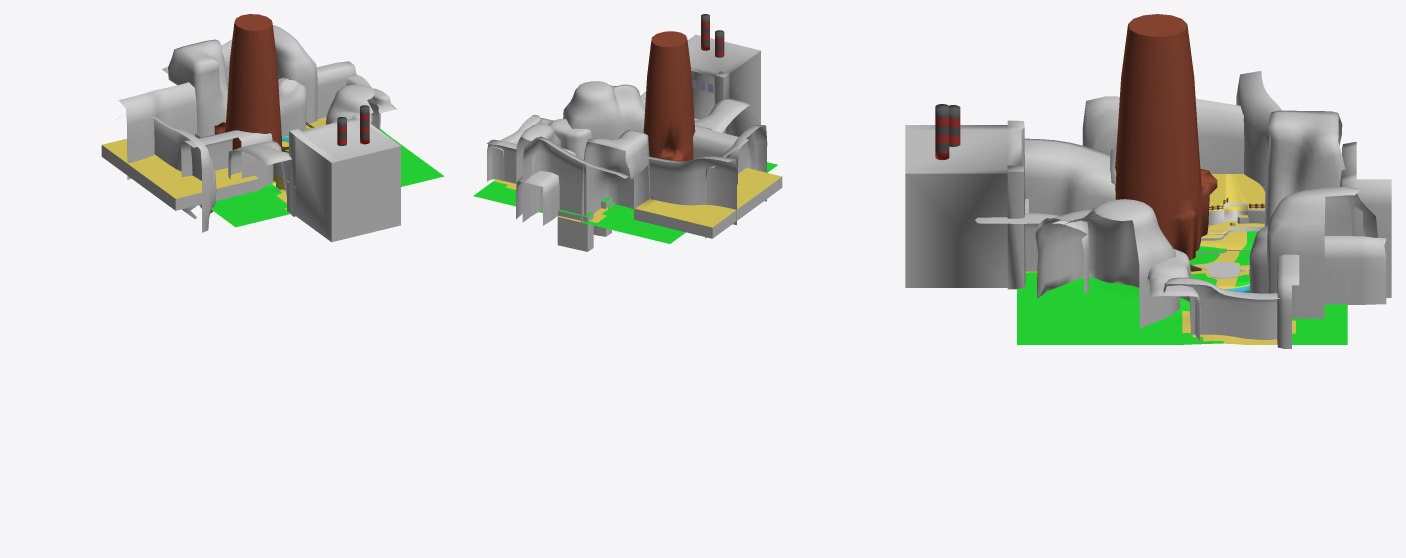
The model's file is MapTest.fbx.
3 renders of one model, left to right at view 1: azimuth 30°, elevation 25°; view 2: azimuth 150°, elevation 25°; view 3: azimuth 270°, elevation 25°, orthographic. The views are drawn at different scales.
Visible parts, largest first — view 1: Cube__19_, Cylinder, Cube__16_, Cube__23_.010, Cube__23_.003, Plane.001, Cube__23_.011, Cube__23_.001, Cube__23_.004, Cube__23_.007, Cube__23_.002, Cube__23_.005 (+1 smaller); view 2: Cylinder, Cube__19_, Cube__23_.003, Cube__16_, Cube__23_.010, Cube__23_.002, Cube__23_.015, Plane.001, Cube__23_.011, Cube__57_.004, Cube__23_.009, Cube__23_.001 (+4 smaller); view 3: Cube__19_, Cylinder, Plane.001, Cube__23_.002, Cube__23_.004, Cube__23_.010, Cube__23_.007, Cube__23_.011, Cube__23_.009, Cube__23_.008, Cube__23_.003, Cube__23_.015 (+7 smaller).
Boxes of the visible parts, x1=… form: Cube__19_: x1=288, y1=113, x2=400, y2=242; Cylinder: x1=214, y1=14, x2=281, y2=180; Cube__16_: x1=101, y1=136, x2=258, y2=210; Cube__23_.010: x1=168, y1=39, x2=228, y2=137; Cube__23_.003: x1=118, y1=82, x2=197, y2=179; Plane.001: x1=211, y1=117, x2=444, y2=227; Cube__23_.011: x1=147, y1=114, x2=216, y2=232; Cube__23_.001: x1=181, y1=130, x2=273, y2=189; Cube__23_.004: x1=273, y1=25, x2=317, y2=124; Cube__23_.007: x1=228, y1=141, x2=291, y2=196; Cube__23_.002: x1=325, y1=84, x2=378, y2=129; Cube__23_.005: x1=278, y1=77, x2=306, y2=136; Cylinder: x1=643, y1=31, x2=695, y2=161; Cube__19_: x1=687, y1=34, x2=760, y2=136; Cube__23_.003: x1=633, y1=156, x2=736, y2=225; Cube__16_: x1=634, y1=168, x2=782, y2=238; Cube__23_.010: x1=581, y1=130, x2=649, y2=224; Cube__23_.002: x1=563, y1=81, x2=644, y2=139; Cube__23_.015: x1=522, y1=136, x2=628, y2=222; Plane.001: x1=473, y1=162, x2=777, y2=243; Cube__23_.011: x1=705, y1=125, x2=767, y2=238; Cube__57_.004: x1=557, y1=209, x2=593, y2=251; Cube__23_.009: x1=516, y1=170, x2=559, y2=225; Cube__23_.001: x1=693, y1=125, x2=748, y2=184; Cube__19_: x1=905, y1=120, x2=1025, y2=289; Cylinder: x1=1115, y1=14, x2=1217, y2=260; Plane.001: x1=1017, y1=250, x2=1347, y2=344; Cube__23_.002: x1=1035, y1=199, x2=1179, y2=328; Cube__23_.004: x1=1267, y1=187, x2=1377, y2=318; Cube__23_.010: x1=1264, y1=110, x2=1345, y2=226; Cube__23_.007: x1=1024, y1=138, x2=1115, y2=215; Cube__23_.011: x1=1082, y1=96, x2=1244, y2=173; Cube__23_.009: x1=1324, y1=236, x2=1386, y2=304; Cube__23_.008: x1=1163, y1=277, x2=1279, y2=339; Cube__23_.003: x1=1236, y1=71, x2=1281, y2=191; Cube__23_.015: x1=1339, y1=142, x2=1391, y2=297.
Size of what is drawn, in the model's own units: 36271 by 43438 by 28165.
